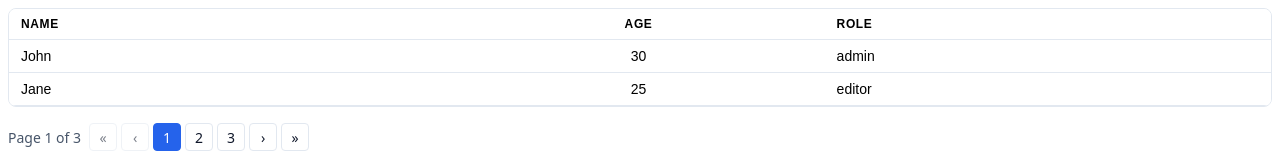
Test: DataGrid › pages through data with the pager
Expected: the number of rows is 3, x1=9 y1=9 x2=1271 y2=40; x1=9 y1=40 x2=1271 y2=72; x1=9 y1=72 x2=1271 y2=106
Step 1. Click the button "2" → (199,137), box x1=185 y1=123 x2=213 y2=151
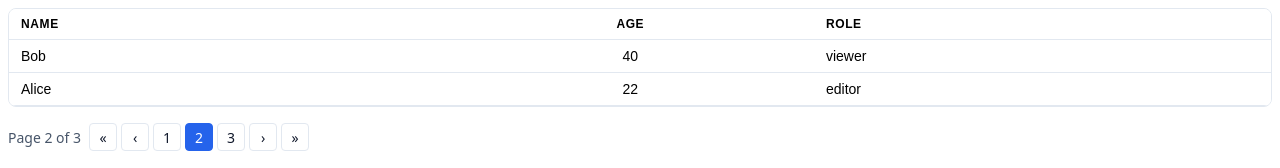
Expected: the number of rows is 3, x1=9 y1=9 x2=1271 y2=40; x1=9 y1=40 x2=1271 y2=72; x1=9 y1=72 x2=1271 y2=106
Now the row "Bob 40 viewer" is shown, box x1=9 y1=40 x2=1271 y2=72
Now the text "Page 2 of 3" is shown, box x1=8 y1=128 x2=81 y2=146
